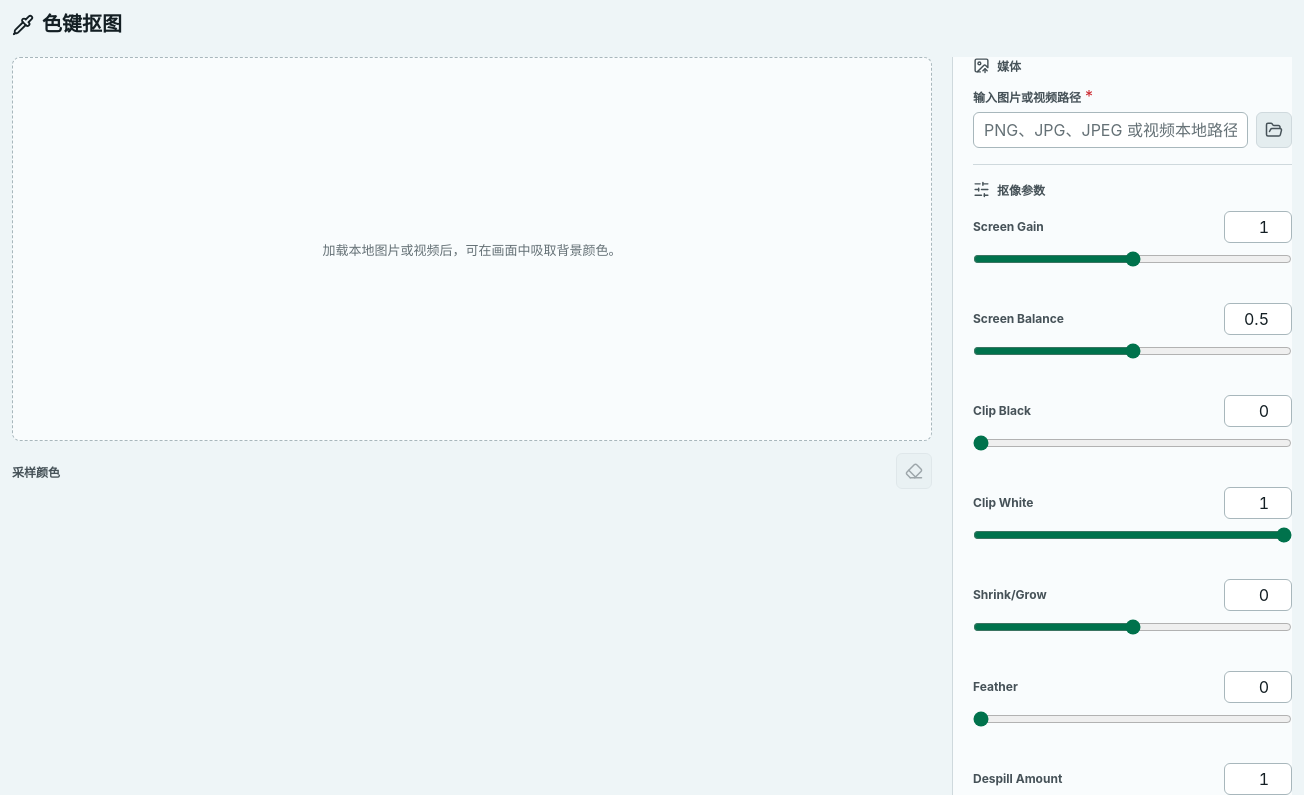
Test: ChromaKeyerPage › refreshes the unchanged input path with premultiplied source final instead of RGB
Later steps or results of the test are not shown.
Step 1. Type "E:\\media\\screen.mp4" into the field labelled "输入图片或视频路径" → (1110, 130), box [973,112,1248,148]
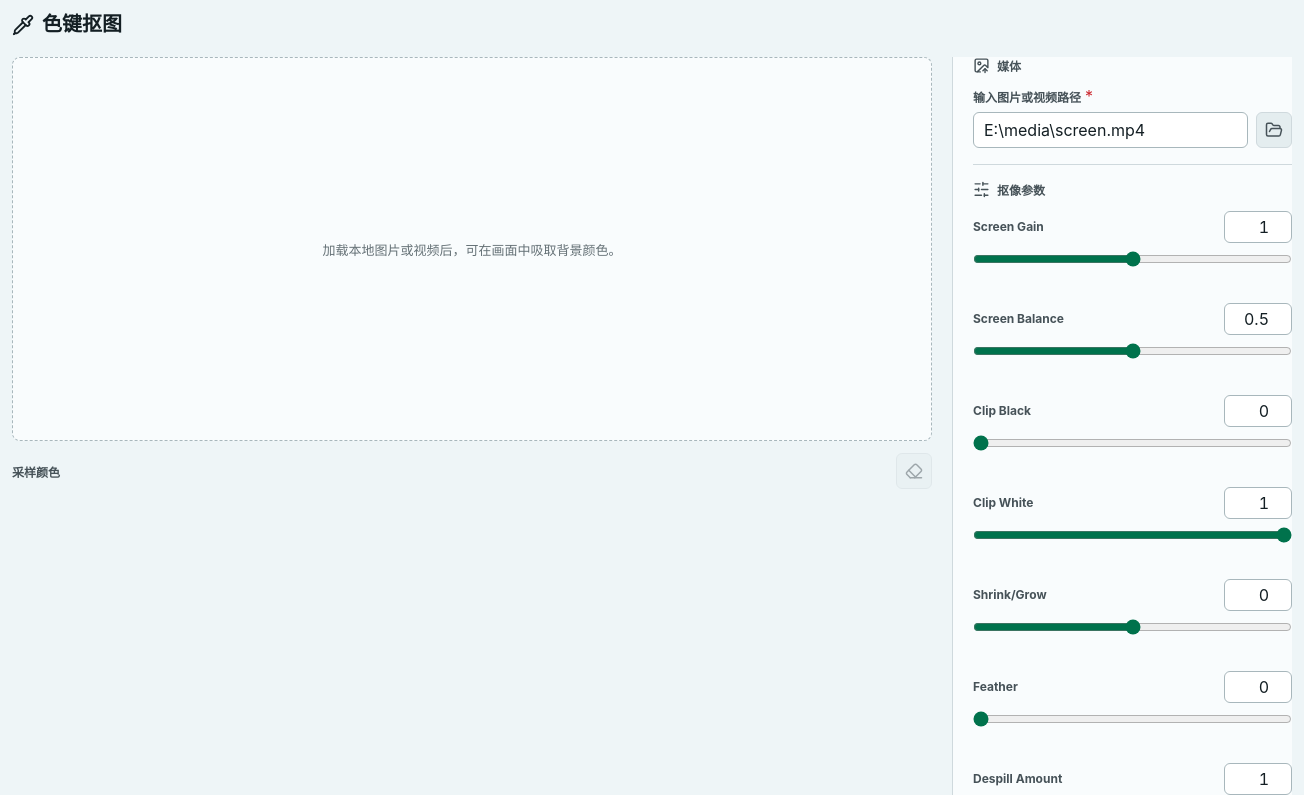
Step 2. Press Enter in the field labelled "输入图片或视频路径", box [973,112,1248,148]
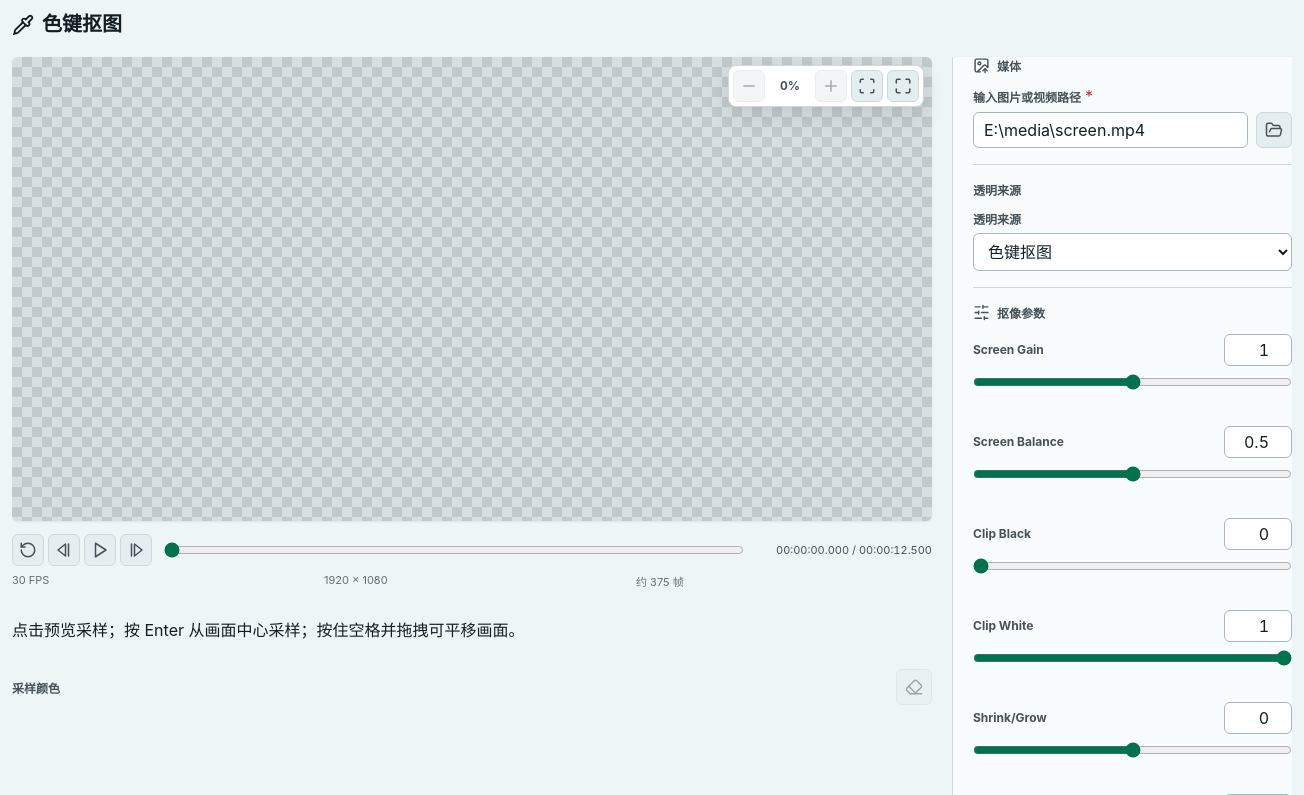
Now the slider named "视频时间轴" is shown, box [164,539,744,561]
